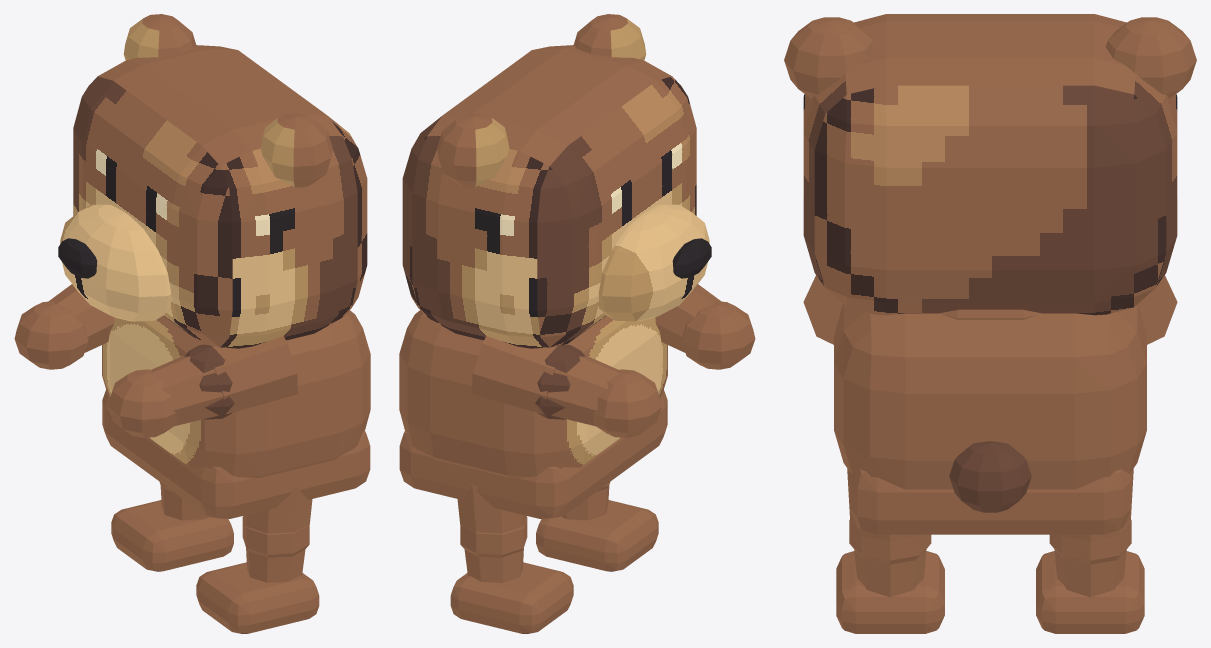
Rendered from rider.glb.
3 views of the same model, side by side, from view 1: azimuth 30°, elevation 25°; view 2: azimuth 150°, elevation 25°; view 3: azimuth 270°, elevation 25° (orthographic). The views are drawn at different scales.
Visible parts, largest first — view 1: Bear_static_seated; view 2: Bear_static_seated; view 3: Bear_static_seated.
Part boxes in pixels (left/top/right/bottom): Bear_static_seated: left=14, top=14, right=370, bottom=633; Bear_static_seated: left=399, top=14, right=755, bottom=633; Bear_static_seated: left=784, top=14, right=1196, bottom=633.
Bounding box in the file's own units: 15.81 × 26.6 × 16.52.
Materials: 1 (1 with a texture image).
